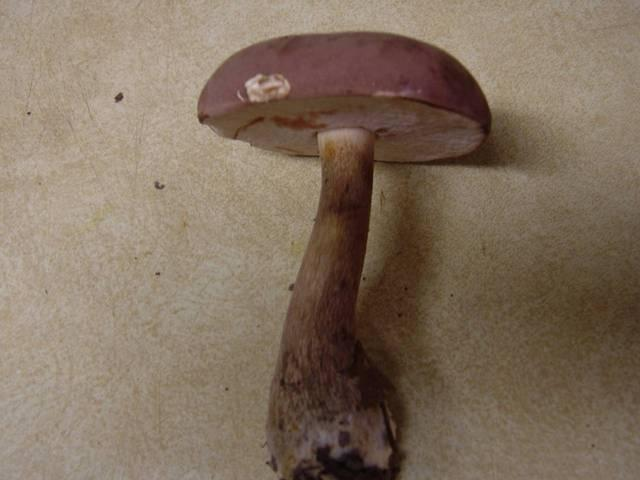Non-edible Mushroom: (195, 29, 492, 479)
